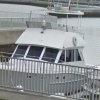Boat: (1, 18, 90, 96)
